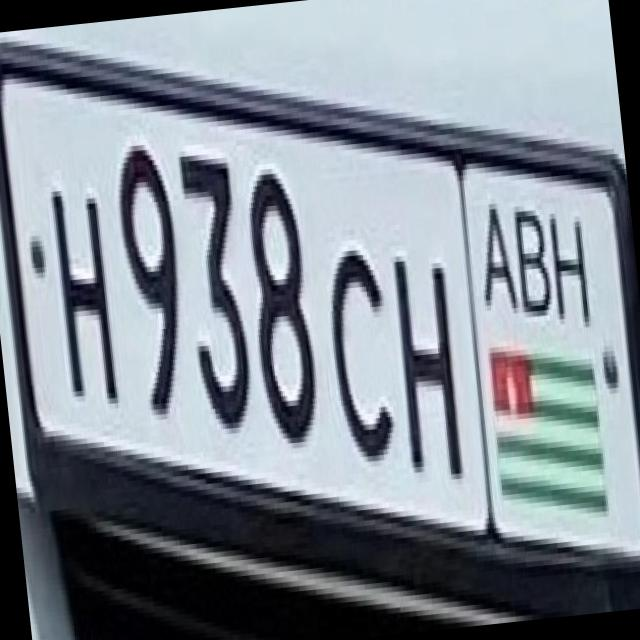3: (161, 130, 266, 432)
8: (222, 150, 328, 452)
9: (97, 125, 198, 412)
A: (465, 191, 521, 322)
B: (503, 187, 557, 318)
C: (309, 230, 406, 464)
H: (374, 230, 472, 480), (38, 159, 126, 408), (534, 194, 594, 325)
